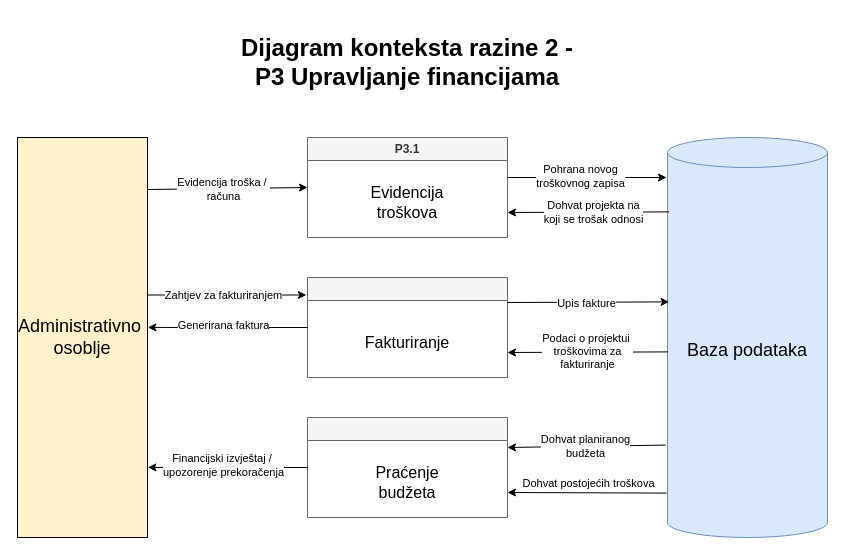
Some shapes in this 845 by 555 pixel diagram are drawn without their labels. The shapes that lost their labels are listed below. From the top down, each one's box as (x1, y1, x2, y2) in pixels, then its label:
(306, 276, 508, 378): P3.2
(306, 416, 508, 518): P3.3
